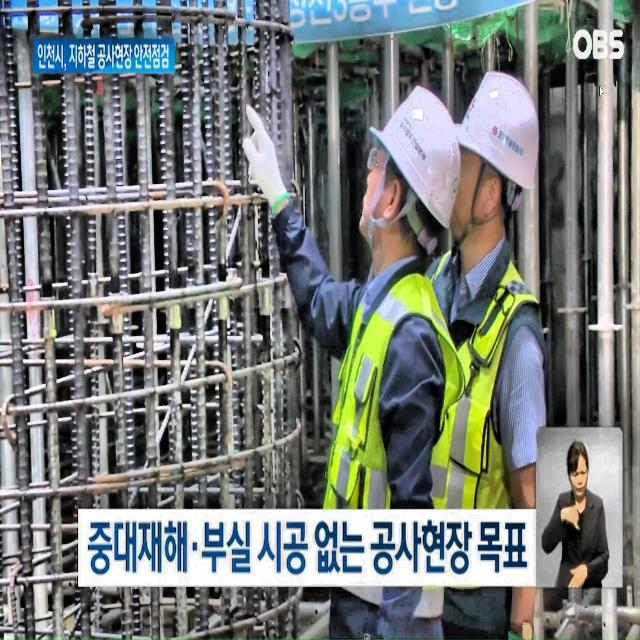safety_helmet: (455, 68, 545, 190), (386, 94, 456, 232)
safety_jacket: (452, 271, 568, 558), (333, 262, 445, 556)
